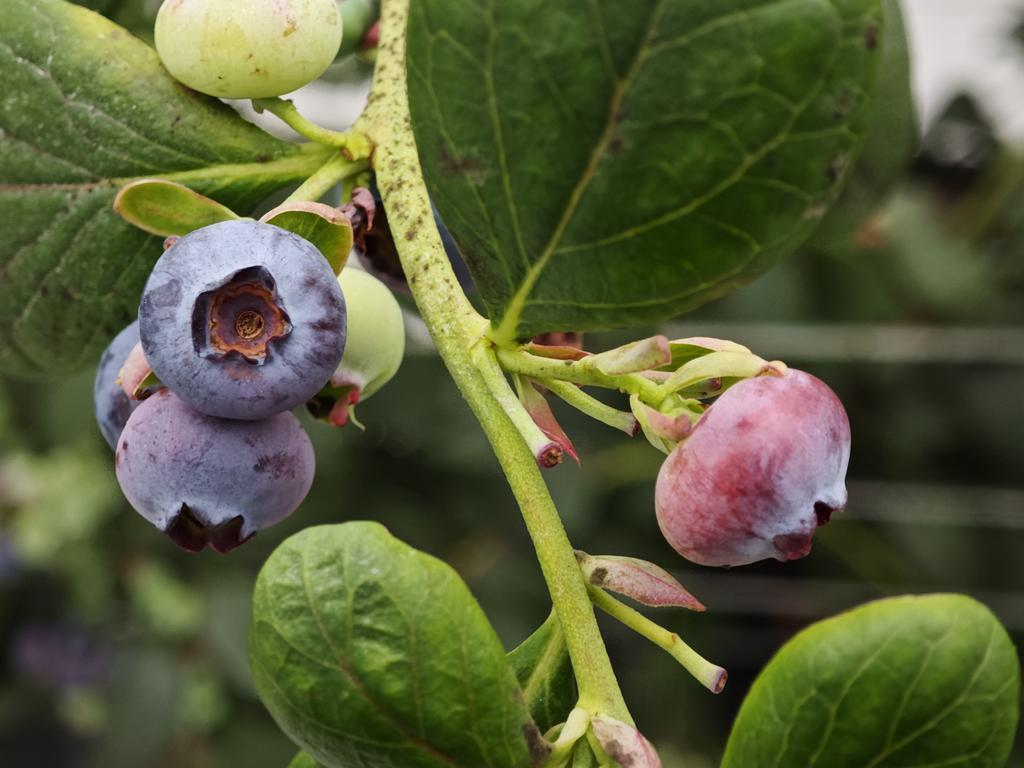RipeBlueBerry: (141, 220, 348, 419)
Semi-RipeBlueBerry: (660, 362, 850, 564)
UnripeBlueBerry: (158, 0, 340, 98)
